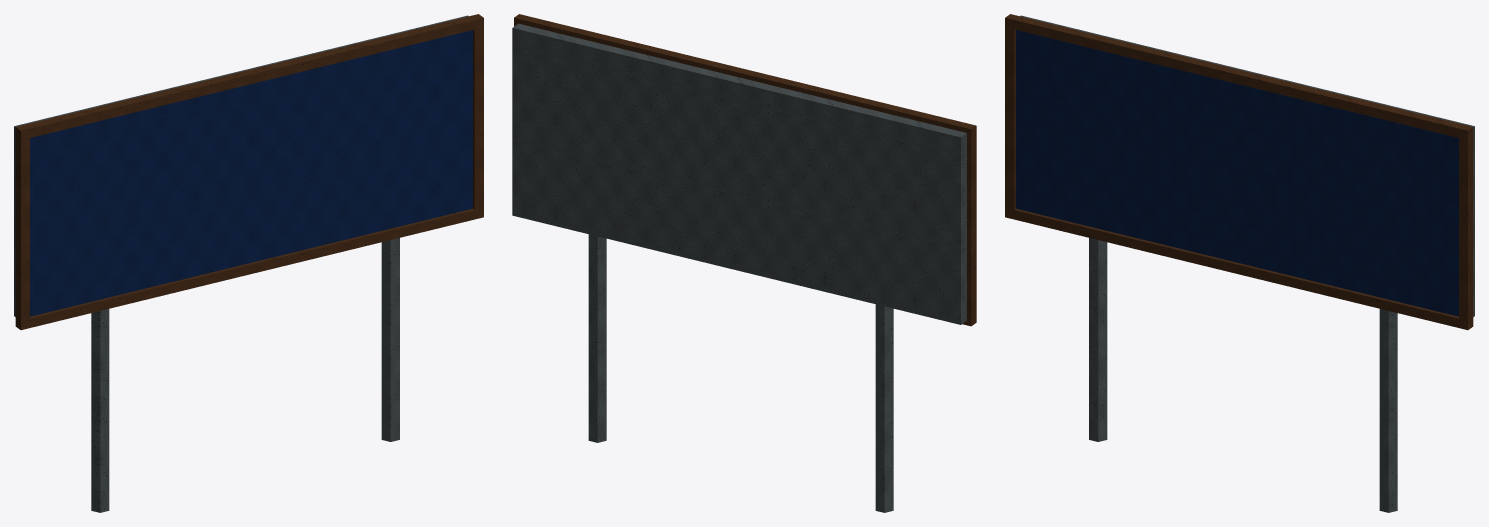
File: PROP-7062E9653A48_lod2.glb
3 renders of one model, left to right at view 1: azimuth 30°, elevation 25°; view 2: azimuth 150°, elevation 25°; view 3: azimuth 330°, elevation 25°, orthographic.
Visible parts, largest first — view 1: painted_sign_face.001, frame.001, sign_support.001, panel_back.001; view 2: panel_back.001, sign_support.001, frame.001; view 3: painted_sign_face.001, frame.001, sign_support.001, panel_back.001.
Boxes of the visible parts, x1=… form: painted_sign_face.001: x1=30, y1=30, x2=472, y2=316; frame.001: x1=15, y1=14, x2=483, y2=330; sign_support.001: x1=91, y1=238, x2=399, y2=512; panel_back.001: x1=14, y1=15, x2=468, y2=316; panel_back.001: x1=512, y1=23, x2=966, y2=324; sign_support.001: x1=588, y1=140, x2=893, y2=512; frame.001: x1=514, y1=14, x2=976, y2=326; painted_sign_face.001: x1=1016, y1=30, x2=1458, y2=316; frame.001: x1=1005, y1=14, x2=1473, y2=330; sign_support.001: x1=1089, y1=238, x2=1397, y2=512; panel_back.001: x1=1020, y1=15, x2=1474, y2=316.
Size of the model in its own units: 5.1 by 4.25 by 0.2166.
Materials: 3 (3 with a texture image).
